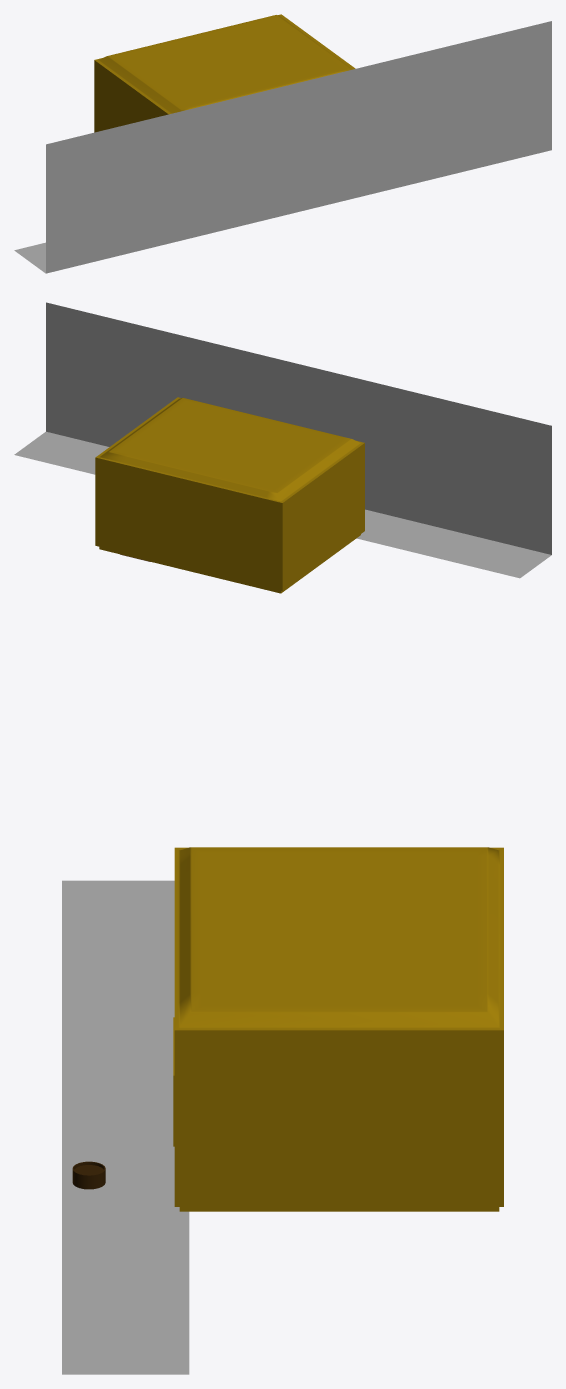
The model's file is Office Version 3.fbx.
3 views of the same model, one above another, from view 1: azimuth 30°, elevation 25°; view 2: azimuth 150°, elevation 25°; view 3: azimuth 270°, elevation 25° (orthographic). The views are drawn at different scales.
Parts seen in each view (by area): view 1: HallWay, Room2; view 2: HallWay, Room2; view 3: Room2, HallWay.
Boxes of the visible parts, x1,y1,x2,y2 form: HallWay: (14, 21, 551, 273); Room2: (94, 14, 355, 132); HallWay: (14, 302, 551, 578); Room2: (95, 397, 364, 593); Room2: (173, 847, 503, 1211); HallWay: (62, 880, 189, 1374).
Size of the model in its own units: 149 by 36.74 by 56.31.
